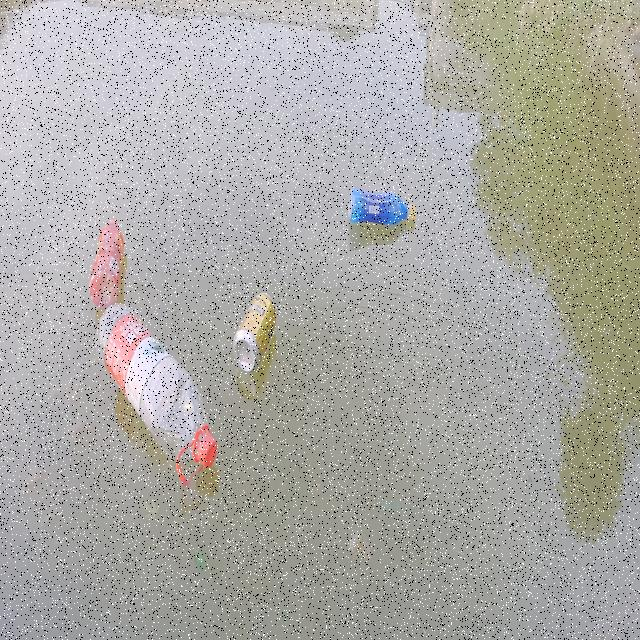Bottle: (93, 305, 218, 488), (86, 210, 130, 300), (346, 183, 420, 231)
Can: (230, 287, 280, 375)
